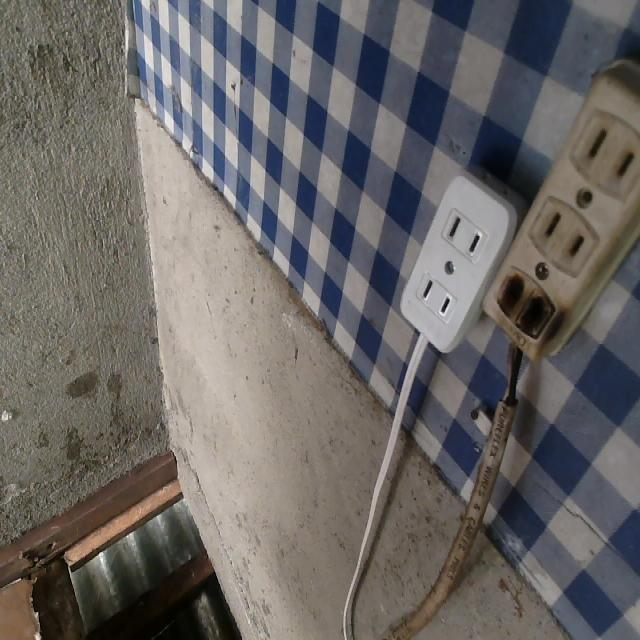-: (485, 258, 566, 354)
